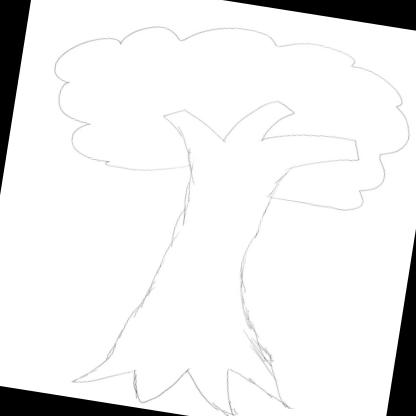branch_cut: (150, 76, 371, 192)
crown_cloud: (37, 0, 416, 223)
root_only: (72, 316, 303, 416)
trunk_reflex: (125, 195, 283, 332)
